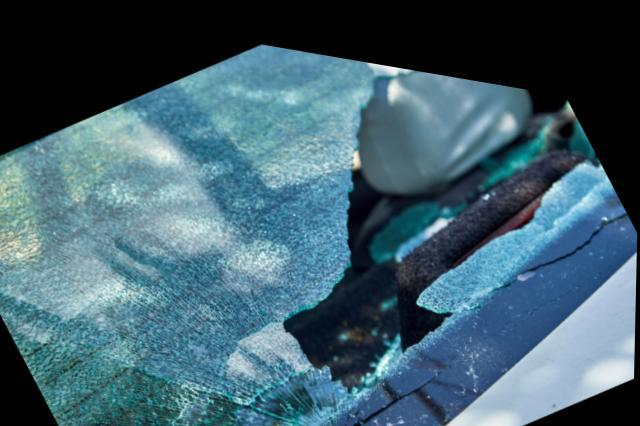glass shatter: (0, 35, 638, 426)
